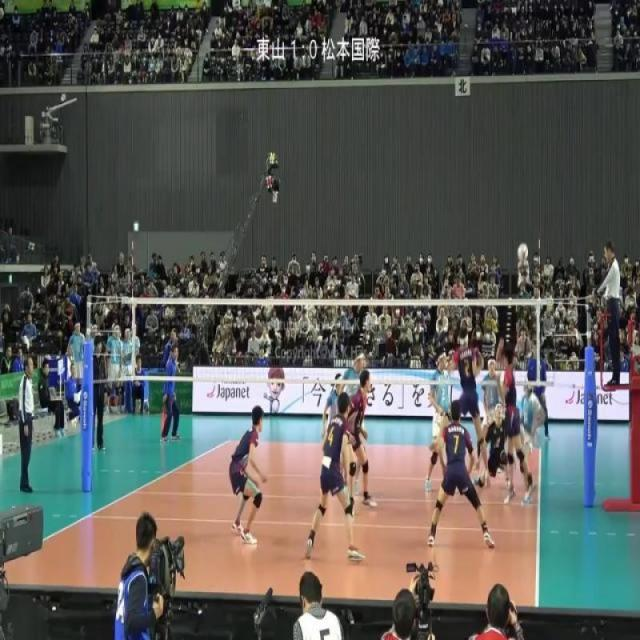volleyball: (516, 242, 528, 262)
